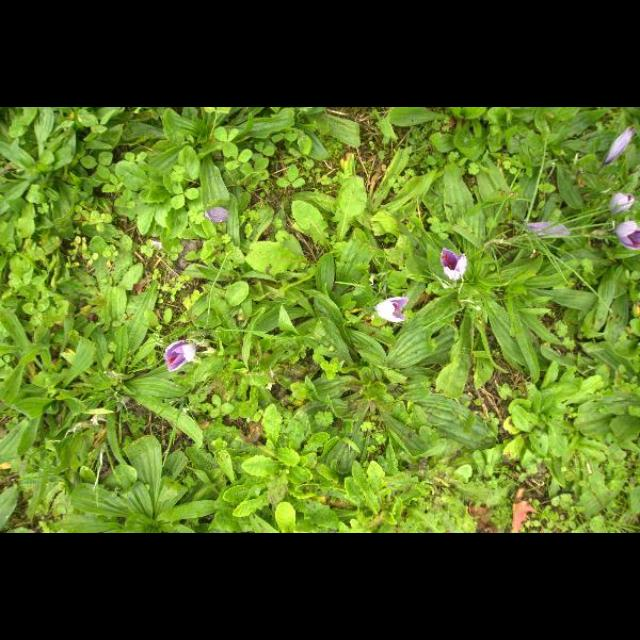flower: (604, 125, 638, 167), (164, 341, 196, 373), (440, 248, 468, 282), (378, 296, 410, 324), (612, 221, 640, 251), (609, 191, 635, 215)
